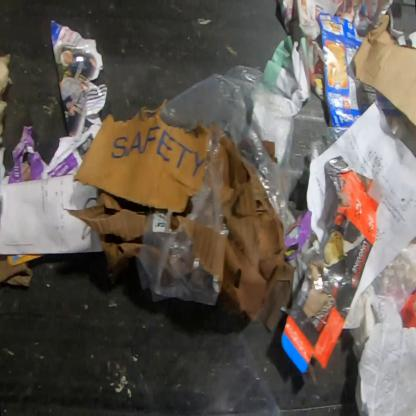cardboard: (279, 154, 384, 376), (73, 104, 212, 214), (352, 13, 416, 130), (283, 209, 313, 260), (0, 254, 34, 289)
soft_plastic: (134, 63, 304, 308), (343, 242, 416, 364)
